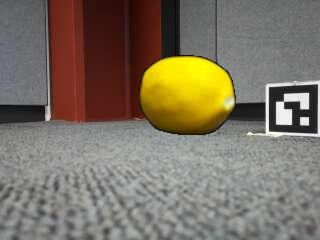lemon: (143, 57, 237, 136)
